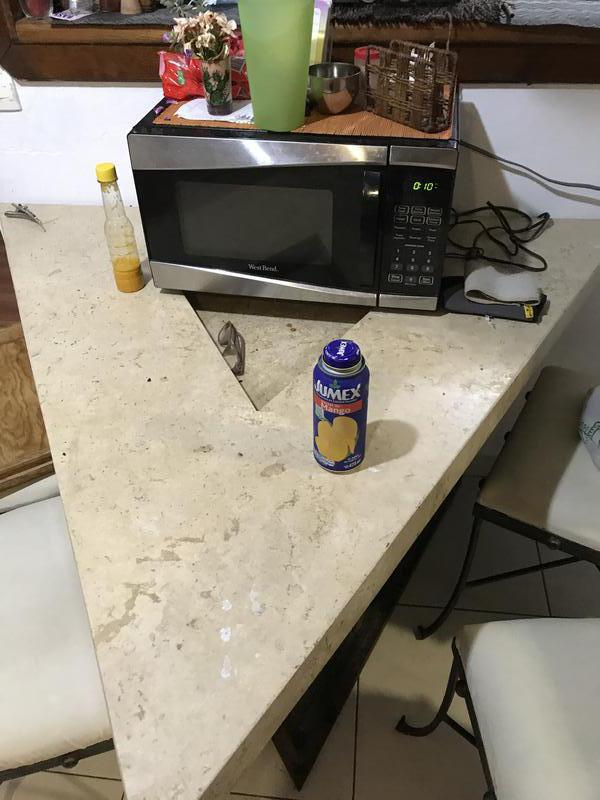jugo_jumex: (311, 342, 369, 474)
